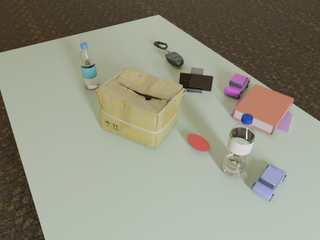book: (232, 85, 294, 135)
bottle: (222, 114, 255, 177), (80, 42, 99, 89)
box: (96, 68, 184, 148)
mouse: (187, 134, 210, 152), (165, 51, 184, 66)
phone: (179, 73, 213, 91)
toy_car: (251, 164, 287, 201), (224, 74, 250, 98)
